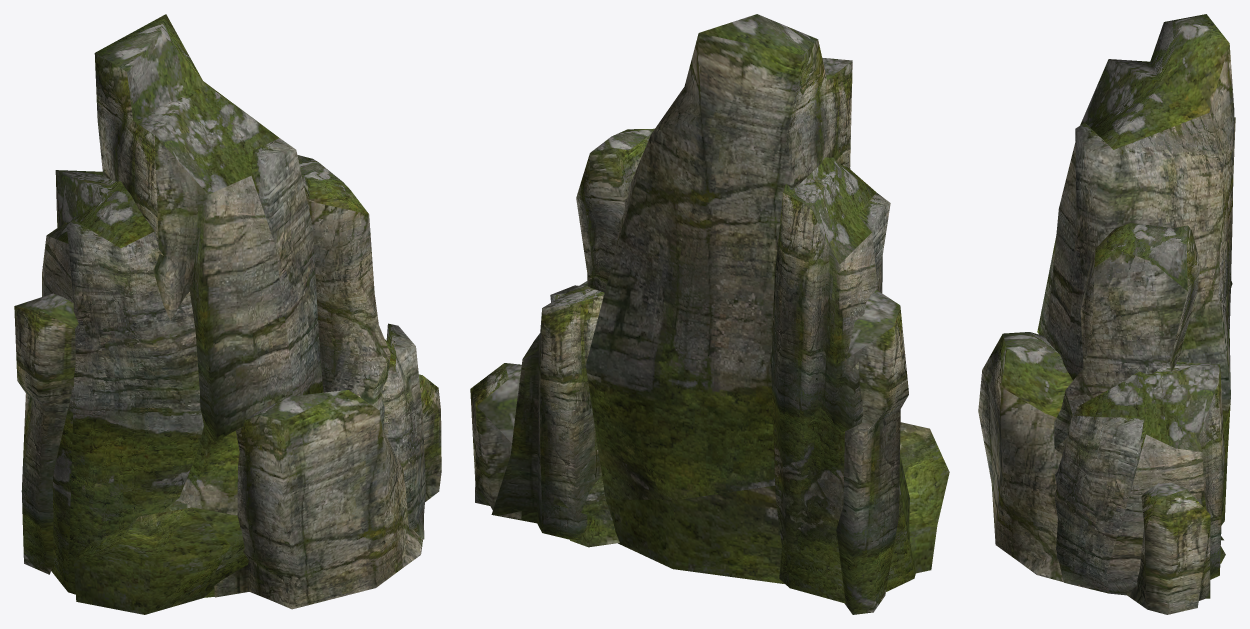
Rendered from Maincity03_Stone_08_LOD2.FBX.
The picture shows the model from 3 angles, left to right: view 1: azimuth 30°, elevation 25°; view 2: azimuth 150°, elevation 25°; view 3: azimuth 270°, elevation 25°; orthographic projection. The views are drawn at different scales.
Visible parts, largest first — view 1: hyc_xinshanshi03_LOD2; view 2: hyc_xinshanshi03_LOD2; view 3: hyc_xinshanshi03_LOD2.
Boxes of the visible parts, x1,y1,x2,y2 form: hyc_xinshanshi03_LOD2: [14, 14, 441, 614]; hyc_xinshanshi03_LOD2: [470, 14, 949, 614]; hyc_xinshanshi03_LOD2: [978, 14, 1235, 614].
Size of the model in its own units: 2032 by 2441 by 1201.
